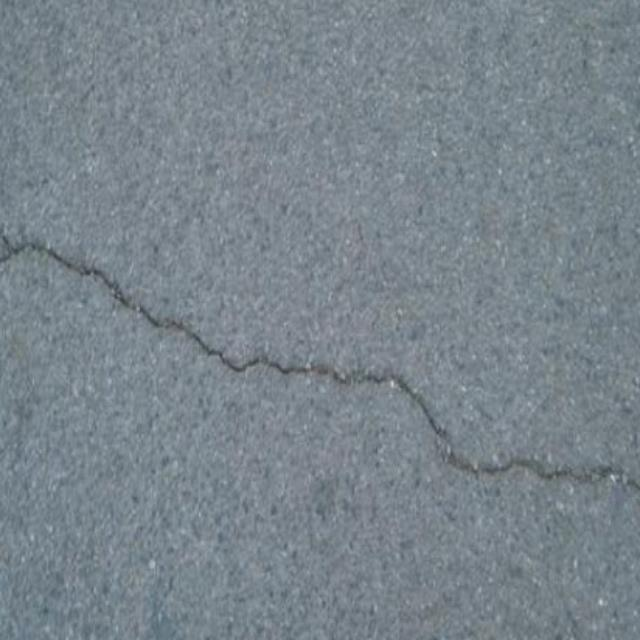GRIETA: (1, 233, 639, 495)
